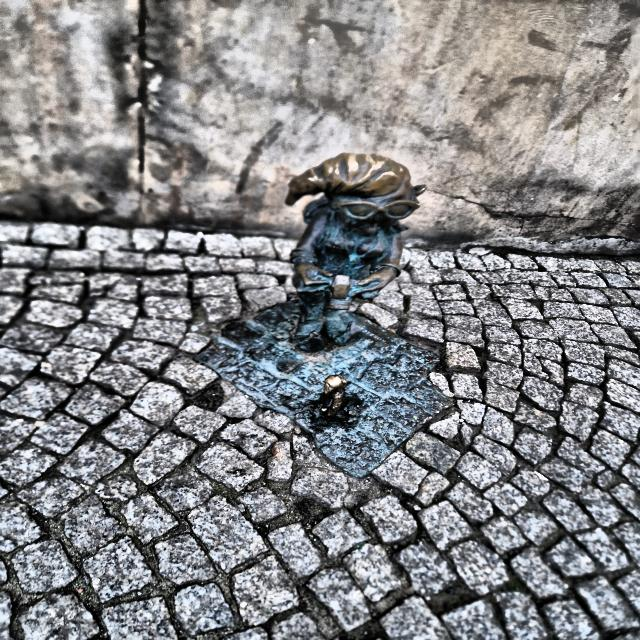Troszka i Adoratorek: (206, 154, 452, 481)
